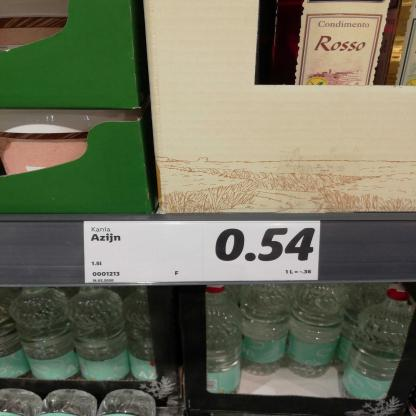prtg: (85, 222, 322, 285)
